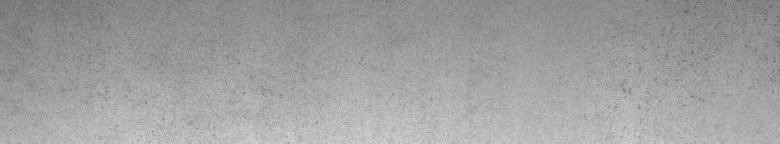ib: (610, 7, 704, 111)
